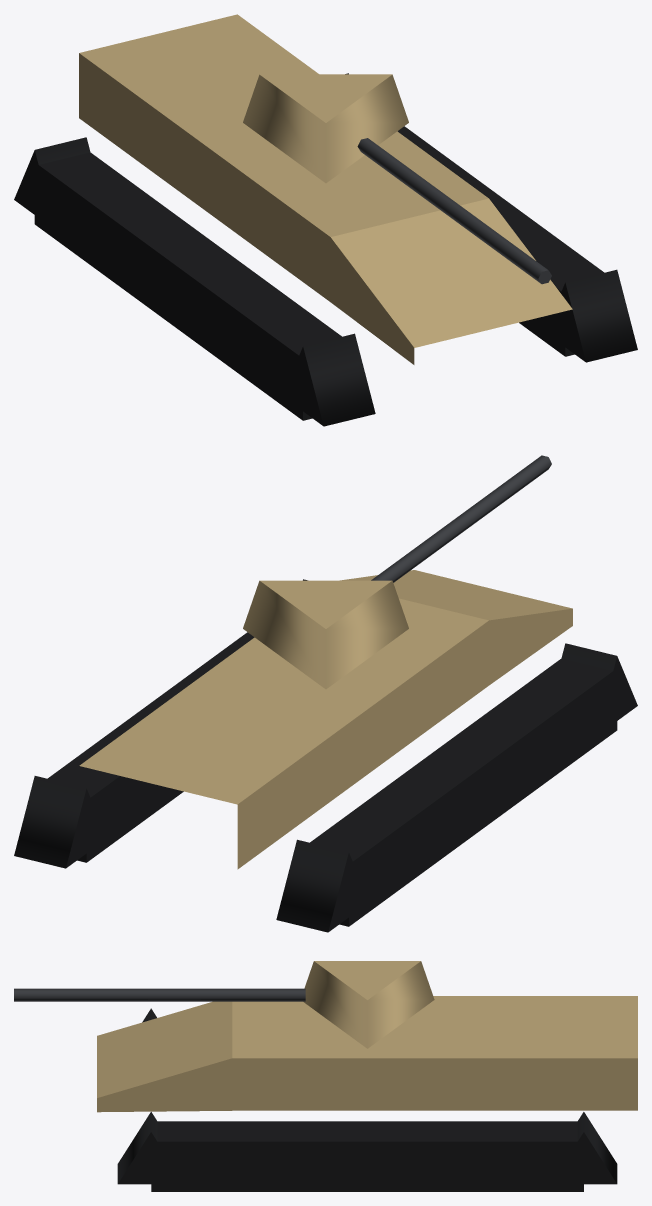
File: veh_ground_tank_light_a07_lod2.glb
The picture shows the model from 3 angles, top to bottom: view 1: azimuth 30°, elevation 25°; view 2: azimuth 150°, elevation 25°; view 3: azimuth 270°, elevation 25°; orthographic projection. The views are drawn at different scales.
Parts seen in each view (by area): view 1: body, track_r, turret, track_l; view 2: body, track_r, turret, track_l; view 3: body, track_l, turret.
Part boxes in pixels (x1,y1,x2,y2): body: (79,14,572,364); track_r: (14,137,375,426); turret: (243,74,551,284); track_l: (345,73,637,362); body: (79,570,572,869); track_r: (276,643,637,932); turret: (243,455,551,689); track_l: (14,579,307,868); body: (97,996,637,1112); track_l: (117,1112,617,1191); turret: (14,961,434,1048).
Bounding box in the file's own units: 3.21 × 1.89 × 6.85.
